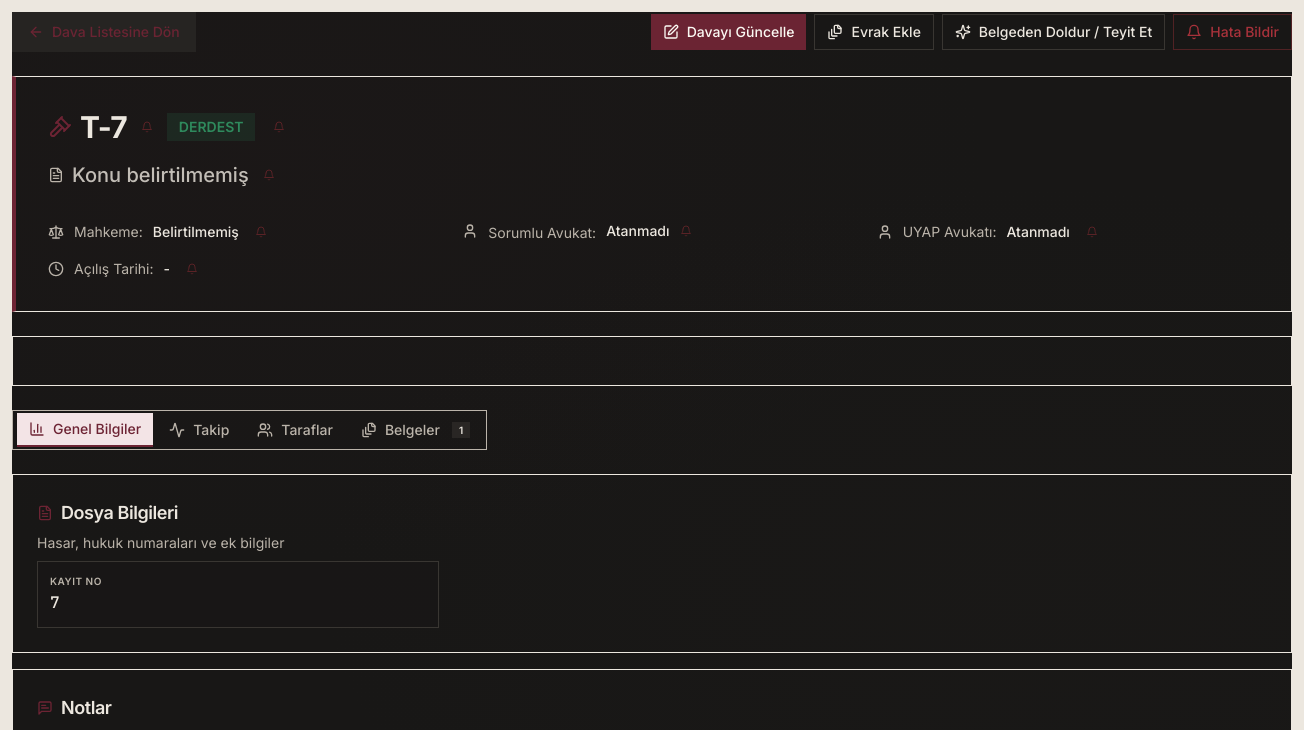
Test: CaseDetails — Belgeler: Gelen · Taslak · Giden (G283) › kümede belge yoksa açıklama satırı
Step 1. Press the mouse on the tab "Belgeler 1" → (416,430), box x1=349 y1=414 x2=482 y2=446
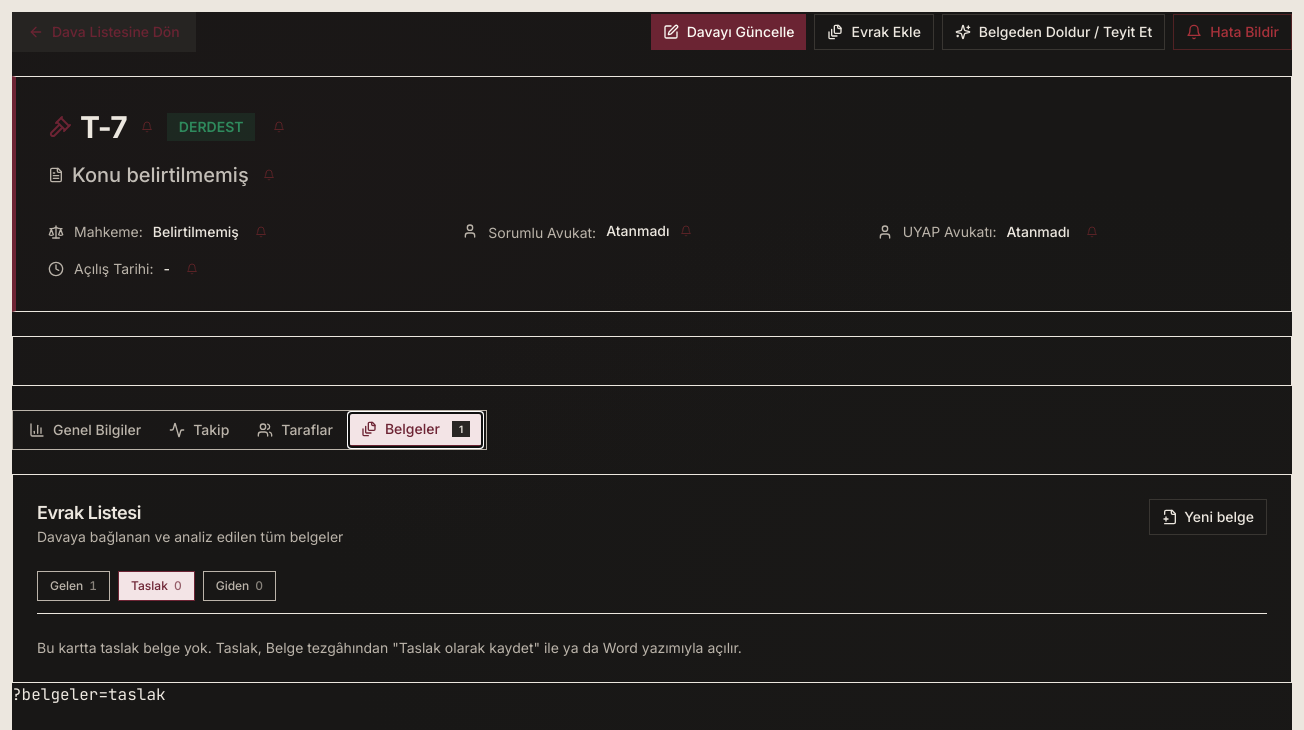
Expected: the text with test id "belge-kume-bos" shows "taslak belge yok", x1=37 y1=639 x2=742 y2=656
